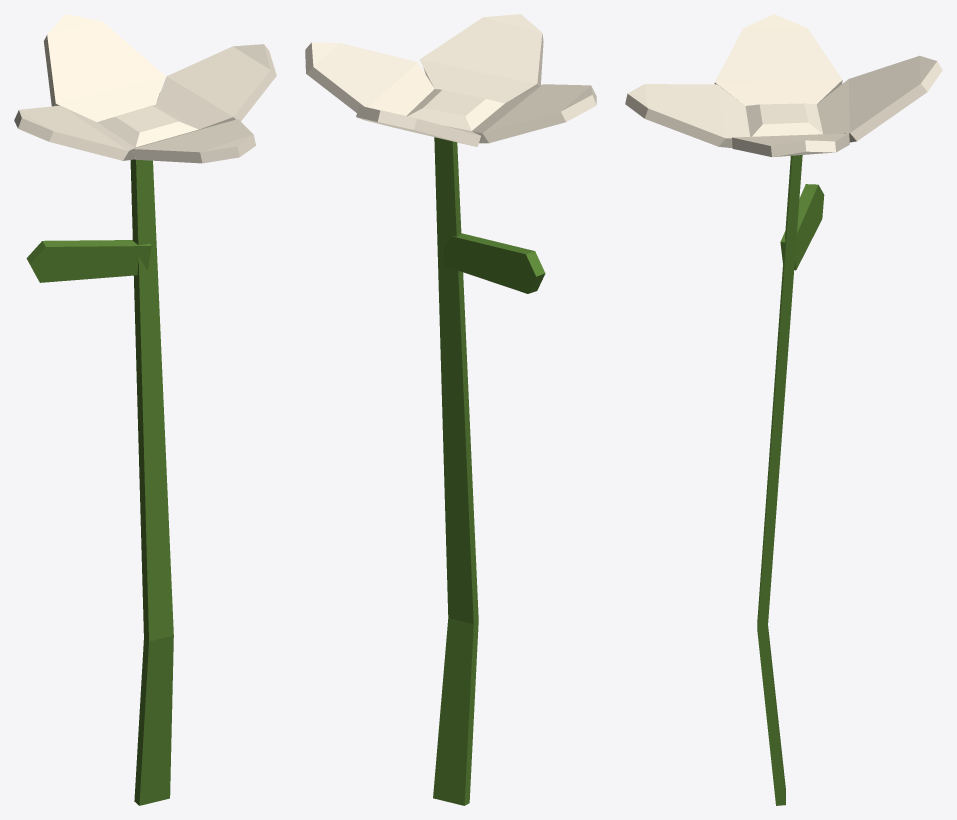
Rendered from flower-b.glb.
3 views of the same model, side by side, from view 1: azimuth 30°, elevation 25°; view 2: azimuth 150°, elevation 25°; view 3: azimuth 270°, elevation 25° (orthographic). The views are drawn at different scales.
Parts seen in each view (by area): view 1: Flower_3; view 2: Flower_3; view 3: Flower_3.
Boxes of the visible parts, bbox=[...] form: Flower_3: bbox=[14, 14, 276, 805]; Flower_3: bbox=[305, 14, 596, 805]; Flower_3: bbox=[625, 14, 942, 805].
Size of the model in its own units: 0.2106 by 0.55 by 0.2161.
